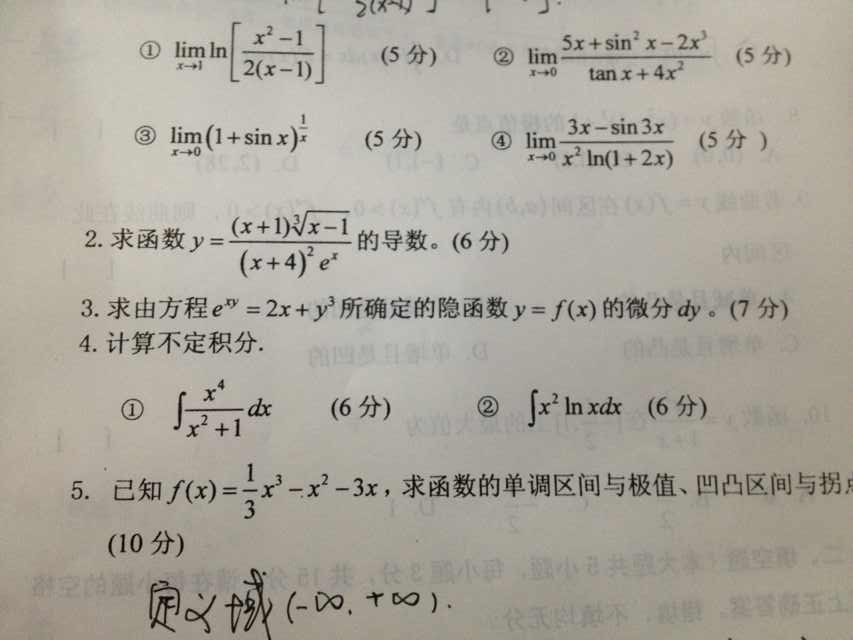cube: (272, 475, 285, 489), (700, 26, 709, 44)
division: (182, 405, 246, 415)
square: (553, 391, 560, 404)
